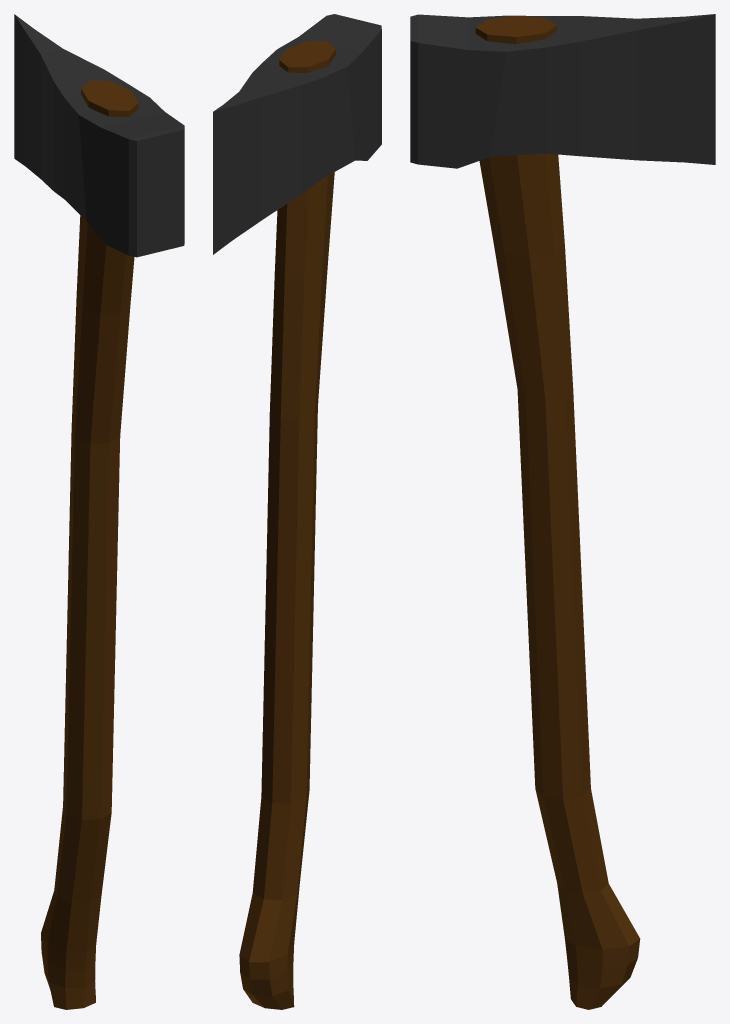
Rendered from kirves.fbx.
3 views of the same model, side by side, from view 1: azimuth 30°, elevation 25°; view 2: azimuth 150°, elevation 25°; view 3: azimuth 270°, elevation 25° (orthographic). The views are drawn at different scales.
Parts seen in each view (by area): view 1: Cube; view 2: Cube; view 3: Cube.
Part boxes in pixels (left/top/right/bottom): Cube: left=14, top=14, right=184, bottom=1009; Cube: left=213, top=14, right=381, bottom=1009; Cube: left=410, top=14, right=715, bottom=1009.
Size of the model in its own units: 1.64 by 5.84 by 20.79.
